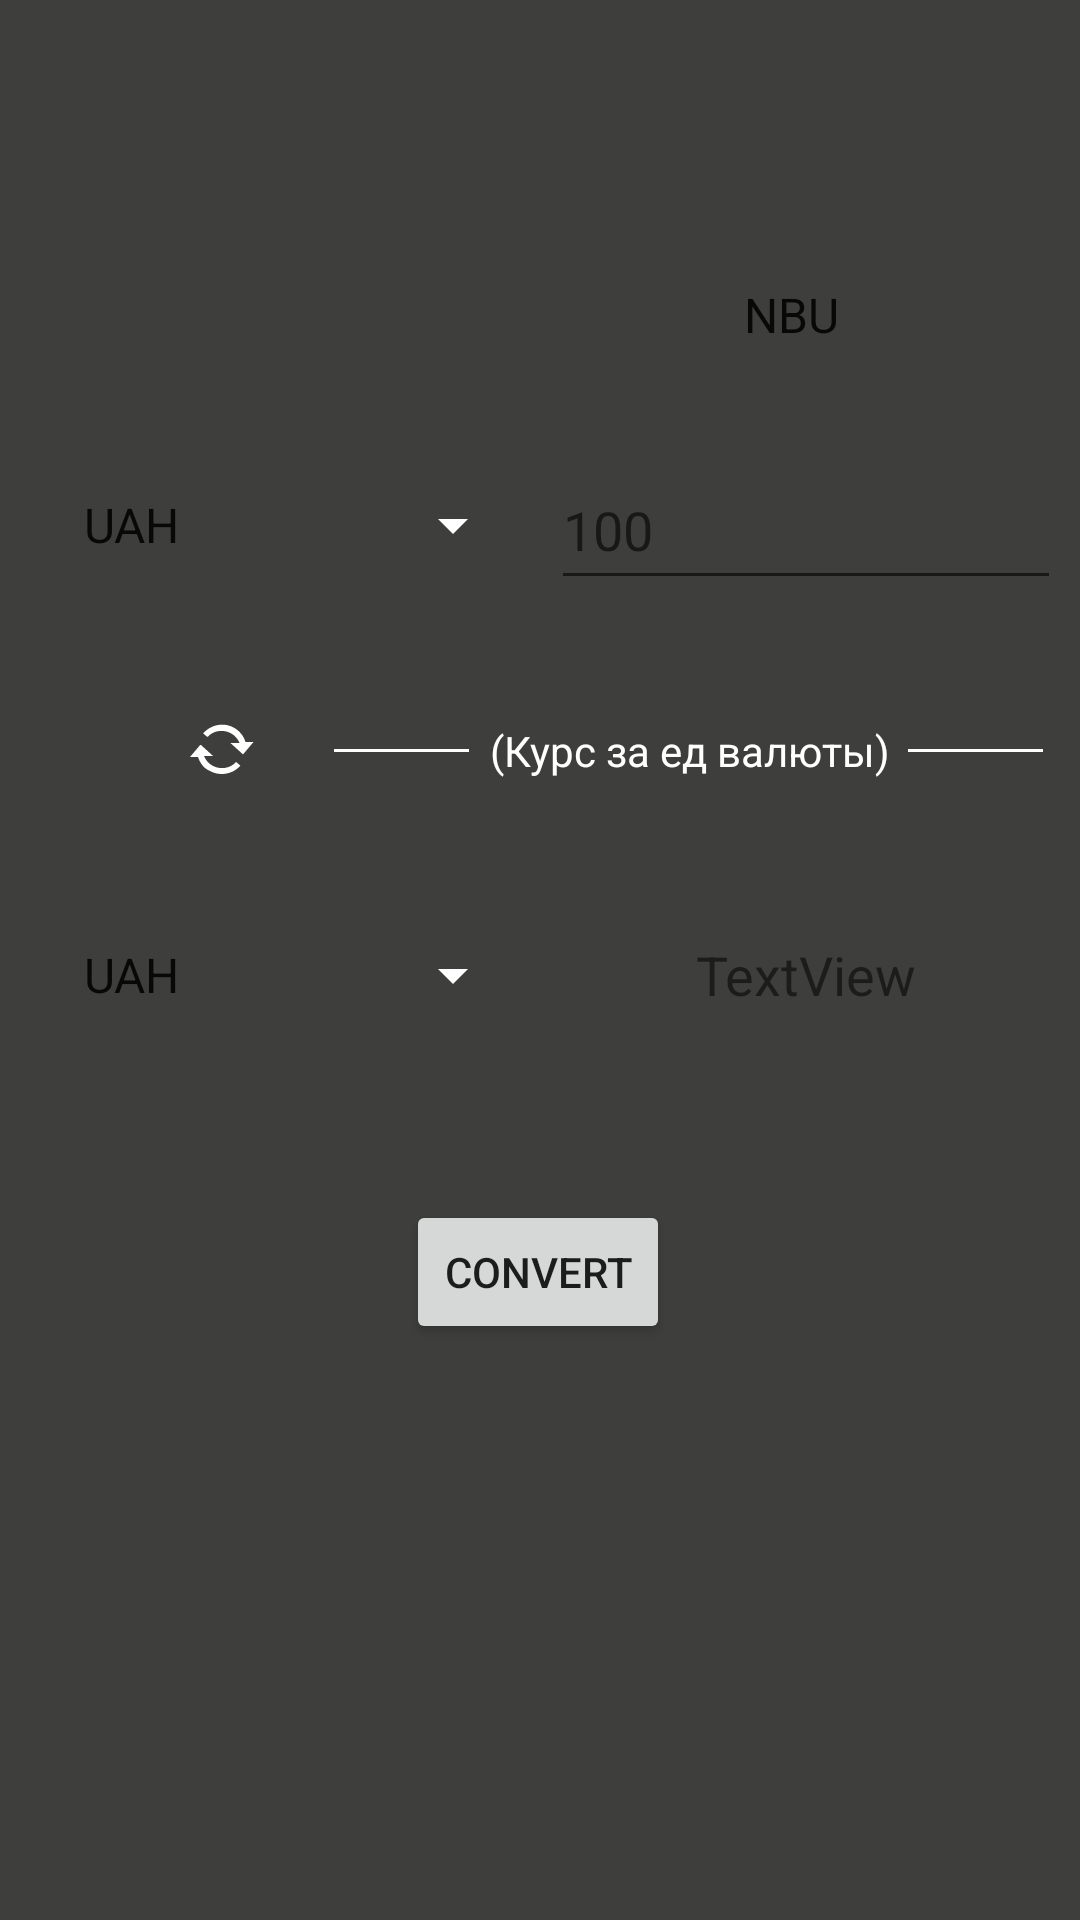

Icon click points for this 1080×1920 phone screenshot, format point (x, y):
Inverse Button: point (222, 749)
